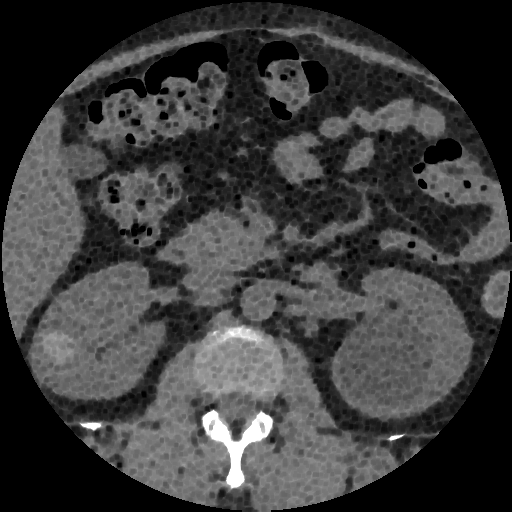Lesion: (32, 329, 77, 368)
